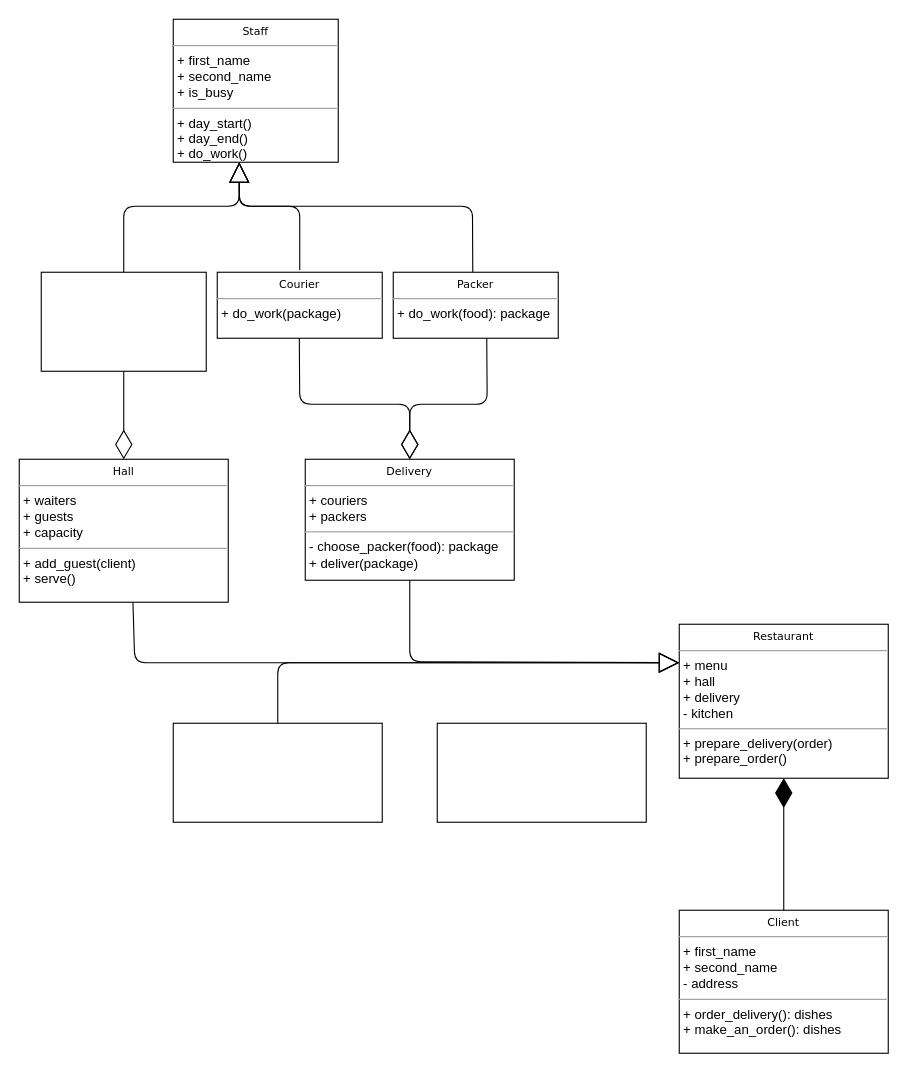
This 908x1073 diagram has some shape labels left out. The shapes that lost their labels are listed below. From the top down, each one's centre as x and y in pixels, then its label:
At (123,321): "Waiter + client + do_work(food)".
At (277,772): "Kitchen + make_preparations() + prepare_food(dishes): food".
At (541,772): "Menu + dishes + update(dish) + form_order(order): dishes, price".
